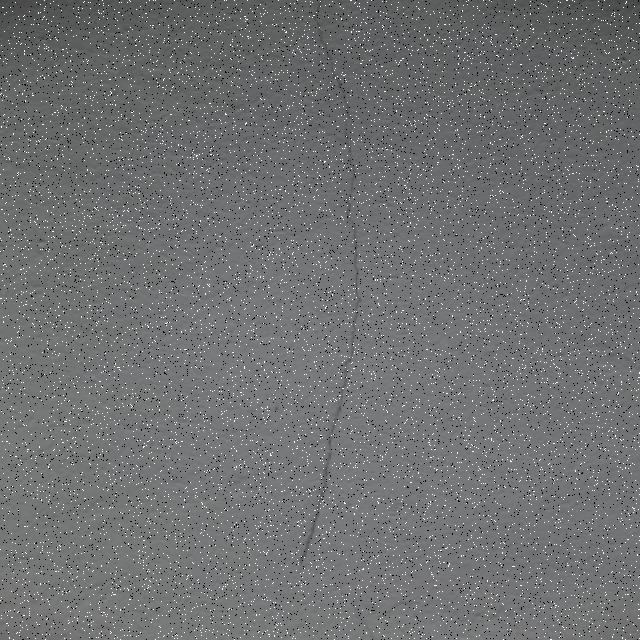minor crack: (5, 307, 640, 640)
moderate crack: (299, 506, 324, 558)
severe crack: (300, 0, 374, 581), (326, 388, 347, 428)
